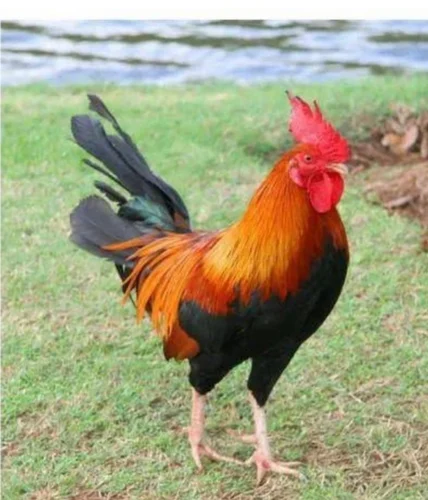Healthy: (61, 84, 364, 479)
